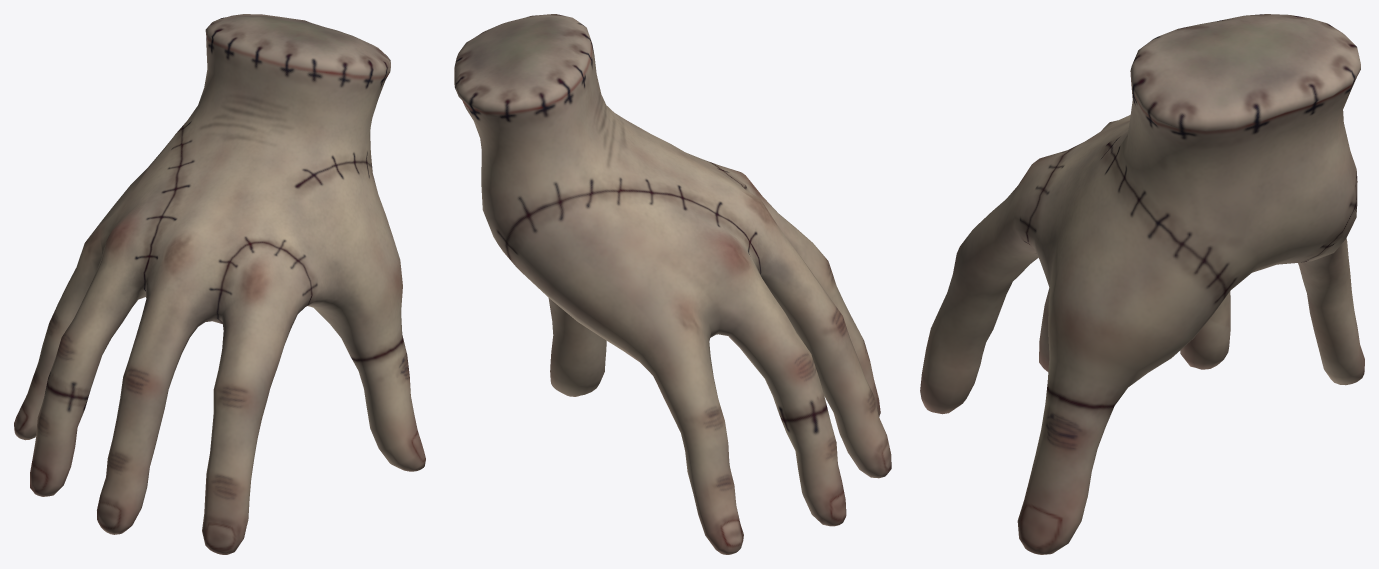
The model's file is thing.glb.
3 renders of one model, left to right at view 1: azimuth 30°, elevation 25°; view 2: azimuth 150°, elevation 25°; view 3: azimuth 270°, elevation 25°, orthographic. The views are drawn at different scales.
Visible parts, largest first — view 1: hand_wensday low _Material.001_0; view 2: hand_wensday low _Material.001_0; view 3: hand_wensday low _Material.001_0.
Part boxes in pixels (bbox=[...]): hand_wensday low _Material.001_0: bbox=[14, 14, 425, 554]; hand_wensday low _Material.001_0: bbox=[454, 14, 891, 554]; hand_wensday low _Material.001_0: bbox=[920, 14, 1364, 554].
Bounding box in the file's own units: 0.2101 × 0.2275 × 0.1859.
Materials: 1 (1 with a texture image).
